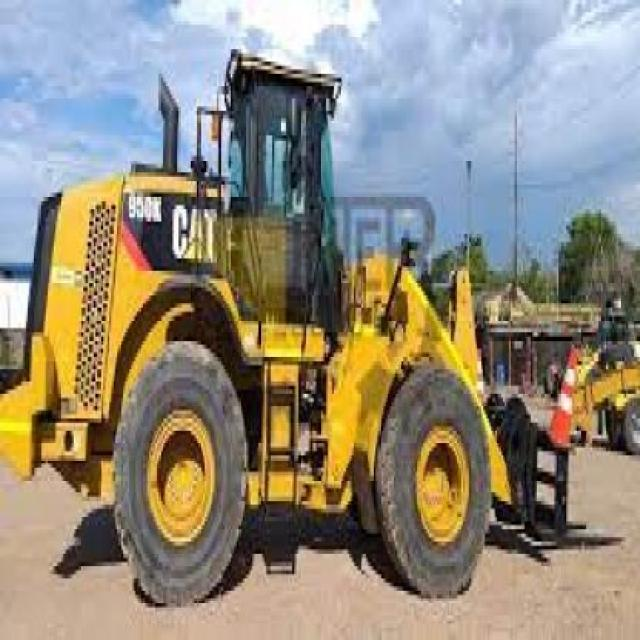buldozerpayloadergrader: (2, 42, 520, 613)
